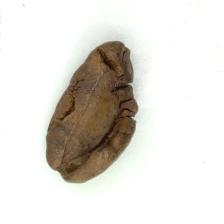NG: (58, 47, 137, 165)
